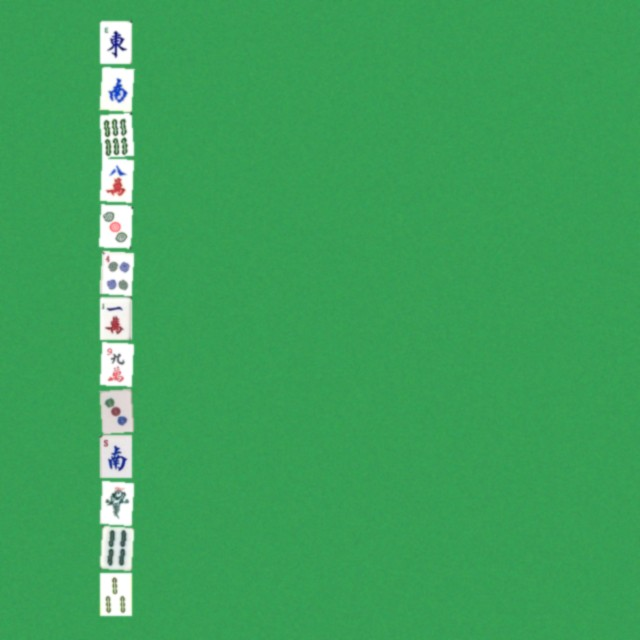tile: (99, 20, 131, 63), (99, 66, 131, 109), (99, 112, 131, 155), (99, 158, 131, 201), (99, 204, 131, 247), (99, 250, 131, 293), (99, 296, 131, 339), (99, 342, 131, 385), (99, 388, 131, 431), (99, 434, 131, 477), (99, 480, 131, 523), (99, 526, 131, 569), (99, 572, 131, 615)
